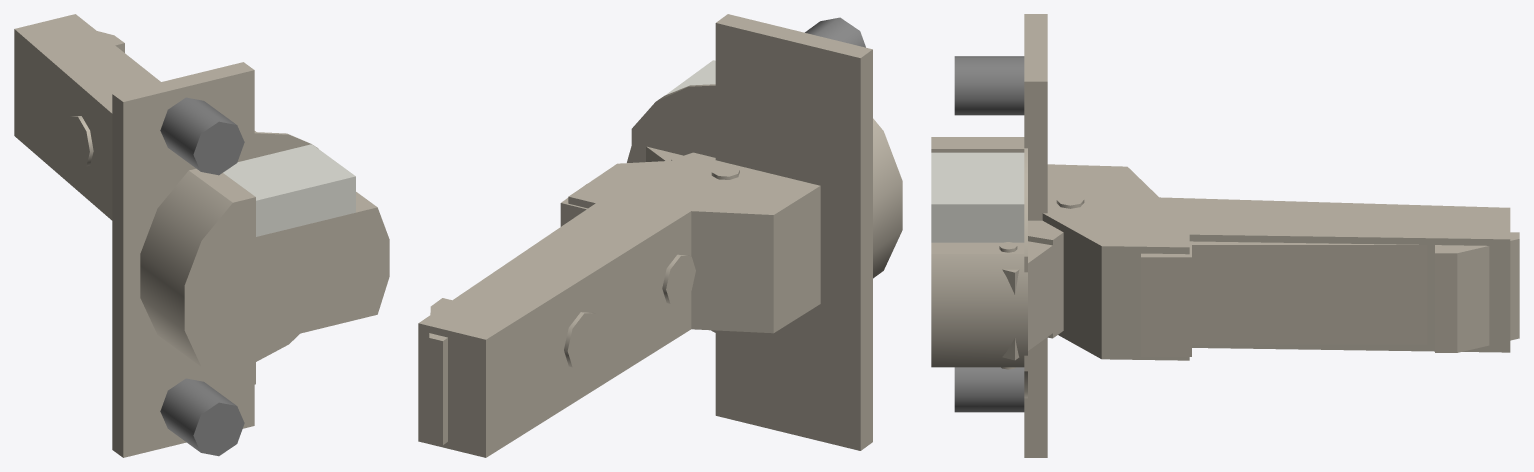
3 views of the same model, side by side, from view 1: azimuth 30°, elevation 25°; view 2: azimuth 150°, elevation 25°; view 3: azimuth 270°, elevation 25° (orthographic). The views are drawn at different scales.
Parts seen in each view (by area): view 1: bau2460033743-1, bau2460631794-1; view 2: bau2460631794-1, bau2460033743-1, bau0019426112-1, bau2460027380-1; view 3: bau2460631794-1, bau2460033743-1, bau0019426112-1, bau2460027380-1.
Part boxes in pixels (x1,y1,x2,y2): bau2460033743-1: (112,62,389,457); bau2460631794-1: (14,14,255,220); bau2460631794-1: (418,158,820,457); bau2460033743-1: (627,14,902,450); bau0019426112-1: (429,184,587,445); bau2460027380-1: (646,146,715,161); bau2460631794-1: (1042,164,1510,360); bau2460033743-1: (931,14,1047,457); bau0019426112-1: (1141,232,1519,356); bau2460027380-1: (1002,220,1063,360).
Bounding box in the file's own units: 37.24 × 57 × 80.8.
